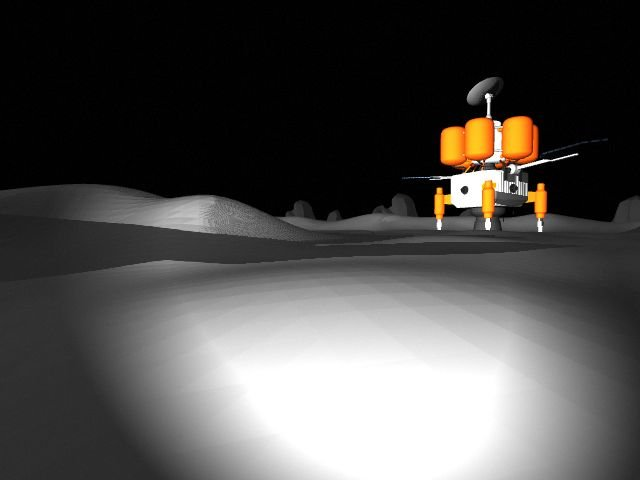homebase: (390, 68, 617, 237)
